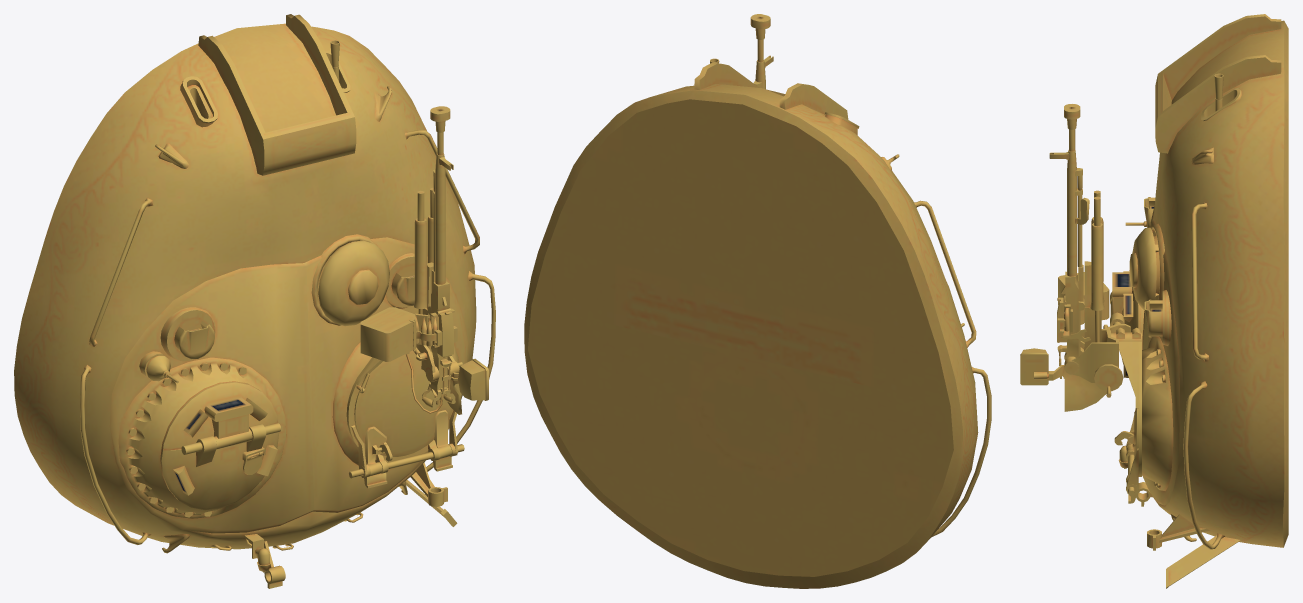
File: Turret_01.glb
The picture shows the model from 3 angles, left to right: view 1: azimuth 30°, elevation 25°; view 2: azimuth 150°, elevation 25°; view 3: azimuth 270°, elevation 25°; orthographic projection. The views are drawn at different scales.
Parts seen in each view (by area): view 1: set_0_group_0; view 2: set_0_group_0; view 3: set_0_group_0.
Part boxes in pixels (x1,y1,x2,y2): set_0_group_0: (14, 14, 495, 588); set_0_group_0: (524, 14, 991, 588); set_0_group_0: (1020, 14, 1288, 588).
Size of the model in its own units: 2.57 by 2.78 by 1.38.
1 material, 1 textured.
